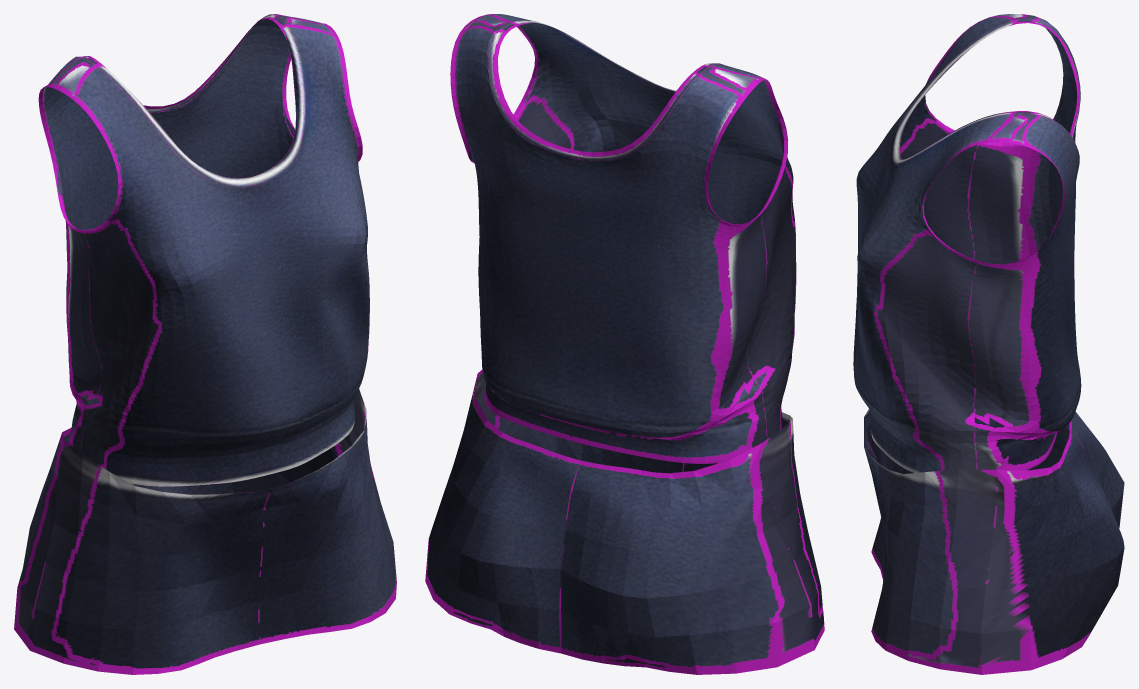
3 renders of one model, left to right at view 1: azimuth 30°, elevation 25°; view 2: azimuth 150°, elevation 25°; view 3: azimuth 270°, elevation 25°, orthographic. The views are drawn at different scales.
Bounding box in the file's own units: 0.565 × 0.8362 × 0.389.
1 material, 1 textured.
